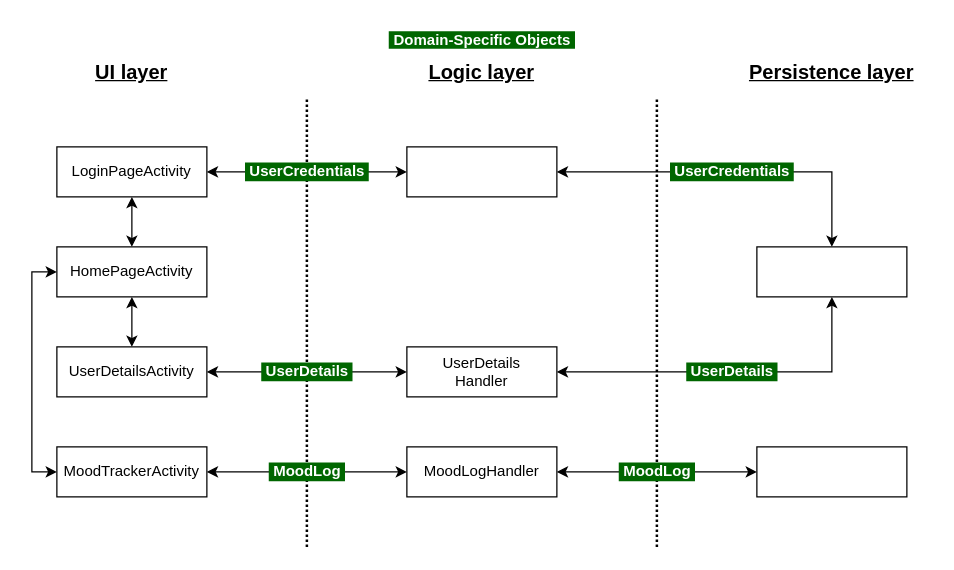
The diagram is 954 pixels wide and 570 high, and some of its shapes have lost their labels. The centre of each missing label's shape, as x and y in pixels:
MoodLog Persistence: [831,471]
UserRegistration Persistence: [831,271]
UserValidation Handler: [481,171]
